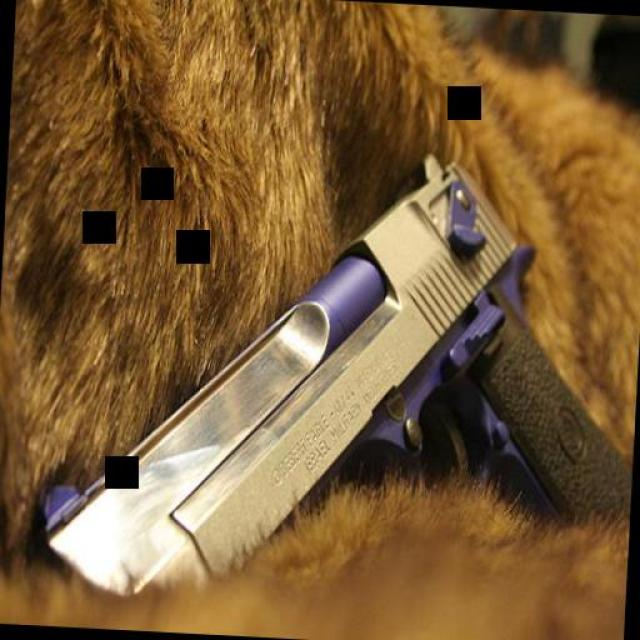gun: (24, 132, 640, 608)
